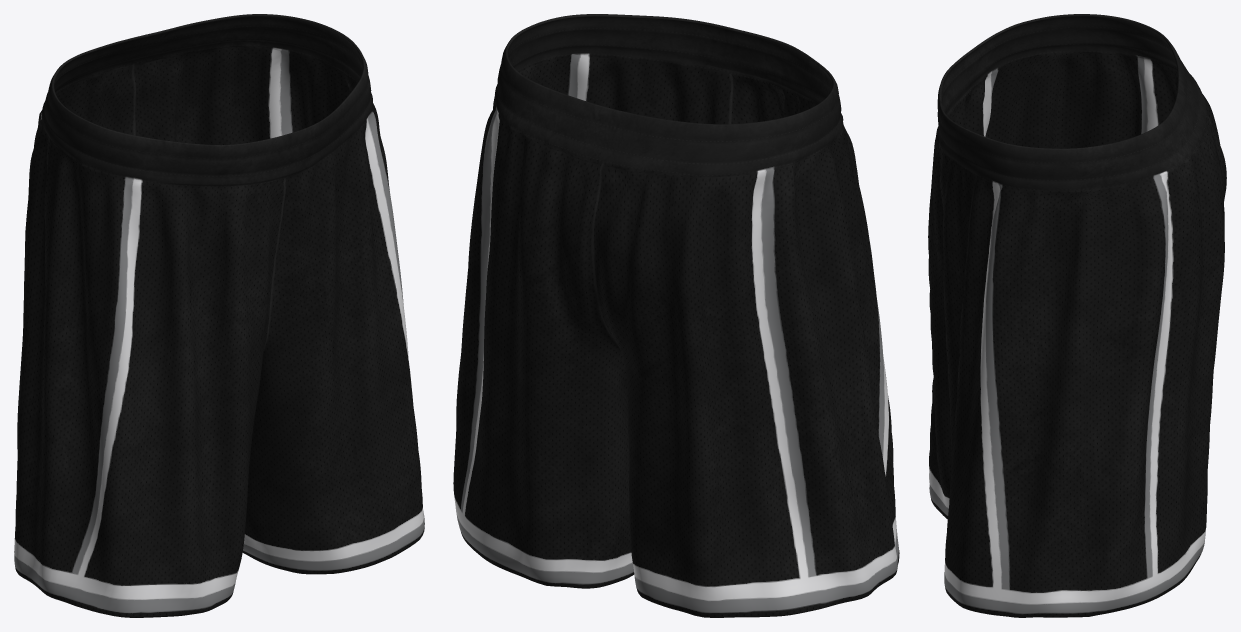
File: short.glb
3 views of the same model, side by side, from view 1: azimuth 30°, elevation 25°; view 2: azimuth 150°, elevation 25°; view 3: azimuth 270°, elevation 25° (orthographic). The views are drawn at different scales.
Visible parts, largest first — view 1: Basketball_Shorts; view 2: Basketball_Shorts; view 3: Basketball_Shorts.
Boxes of the visible parts, box(x1,y1,x2,y2) form: Basketball_Shorts: box(14, 14, 424, 617); Basketball_Shorts: box(453, 14, 899, 617); Basketball_Shorts: box(928, 14, 1226, 617).
Bounding box in the file's own units: 0.4321 × 0.5199 × 0.3031.
1 material, 1 textured.
